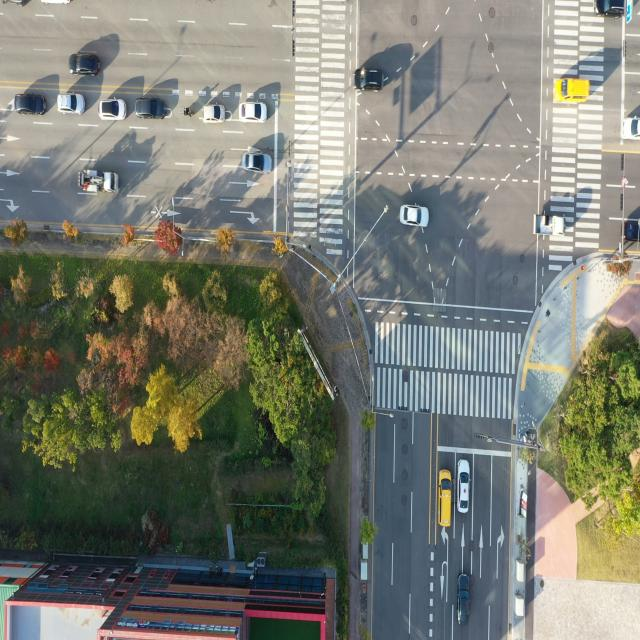car: (552, 78, 590, 105), (438, 464, 453, 528), (15, 92, 47, 118), (456, 573, 471, 628), (353, 66, 383, 92), (458, 460, 472, 515), (135, 98, 166, 121), (96, 101, 130, 121), (591, 0, 625, 20), (72, 54, 101, 77), (401, 206, 429, 228), (243, 154, 270, 175), (60, 93, 83, 115), (622, 220, 640, 246), (205, 102, 227, 123), (242, 103, 266, 122), (621, 114, 640, 138)
small_truck: (77, 168, 120, 196), (533, 211, 567, 240)
